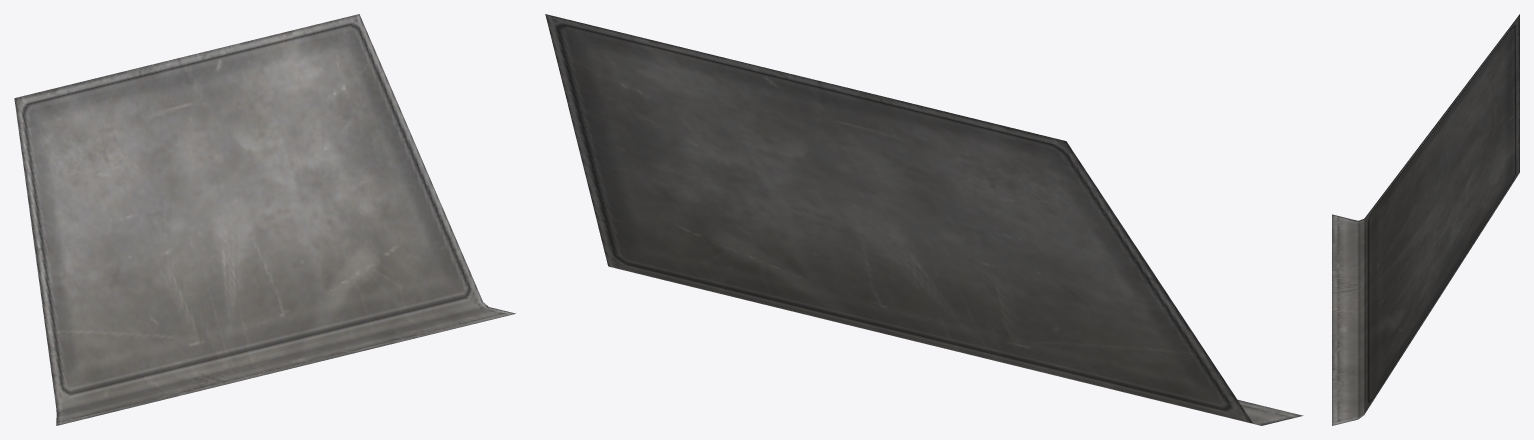
Rendered from 04_02_reactorwall_top_large.DAE.
3 views of the same model, side by side, from view 1: azimuth 30°, elevation 25°; view 2: azimuth 150°, elevation 25°; view 3: azimuth 270°, elevation 25° (orthographic). The views are drawn at different scales.
Parts seen in each view (by area): view 1: Object001; view 2: Object001; view 3: Object001.
Boxes of the visible parts, x1,y1,x2,y2 form: Object001: (14, 14, 515, 425); Object001: (545, 14, 1303, 425); Object001: (1332, 14, 1519, 425).
Size of the model in its own units: 8 by 4 by 3.
